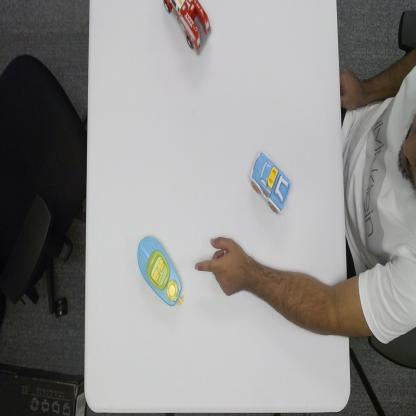Arm: (251, 259, 347, 338)
Boat: (137, 234, 184, 308)
Car: (248, 149, 293, 217)
Firetruck: (160, 0, 214, 55)
Hand: (194, 235, 248, 300)
